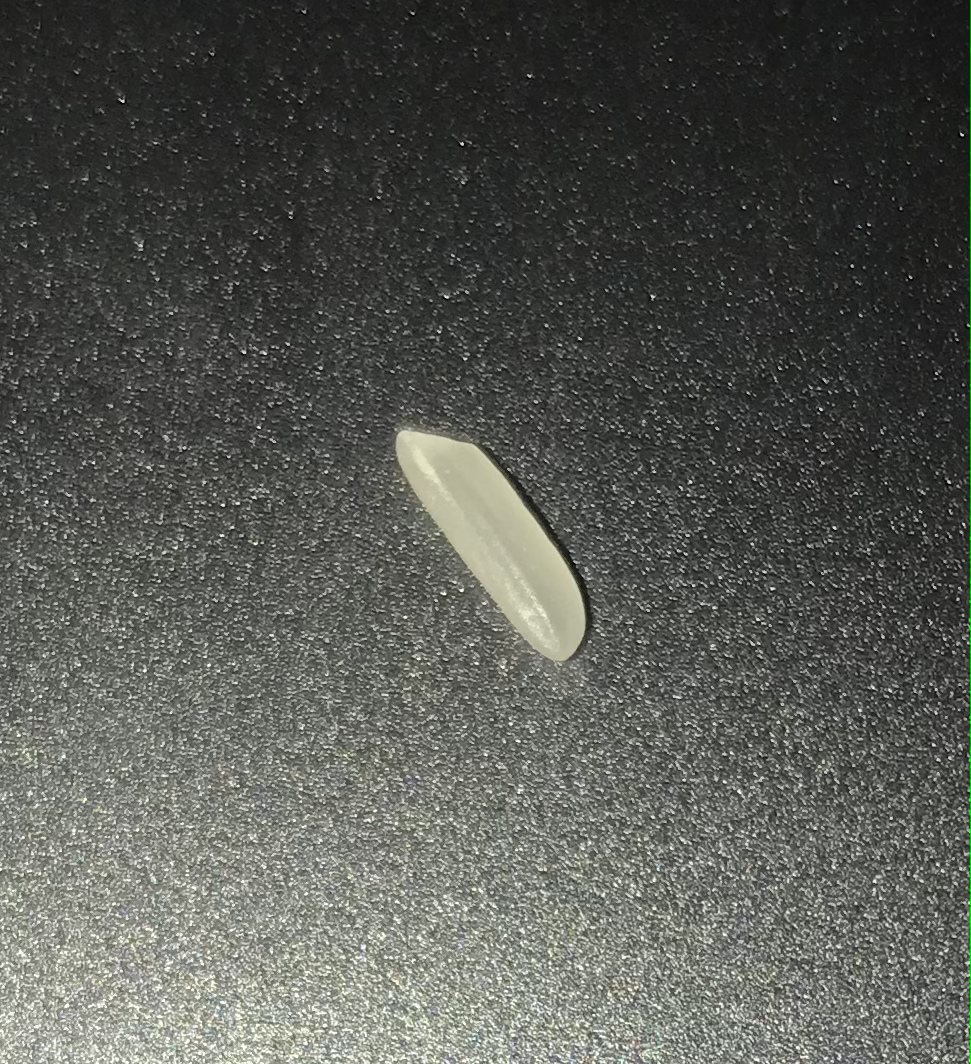Gao Thom My: (384, 405, 615, 682)
